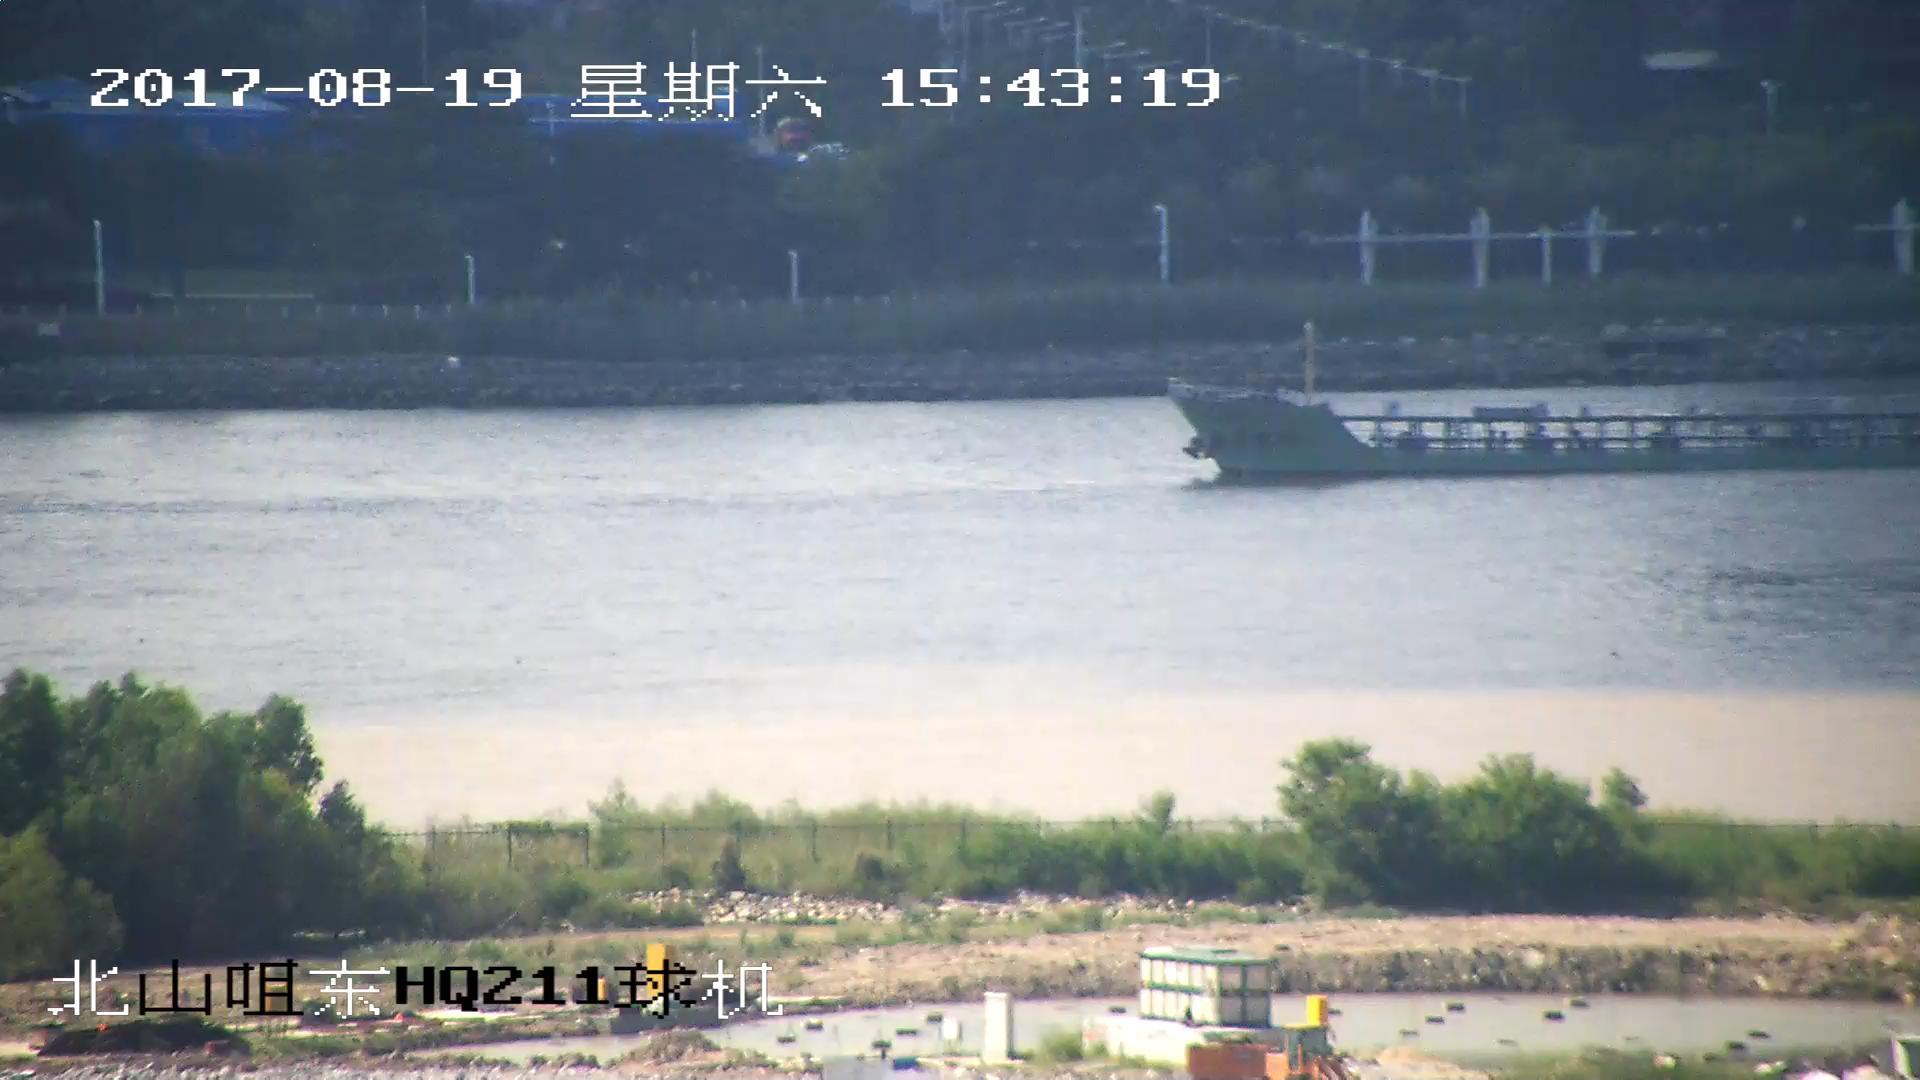Ship: (1168, 384, 1920, 477)
